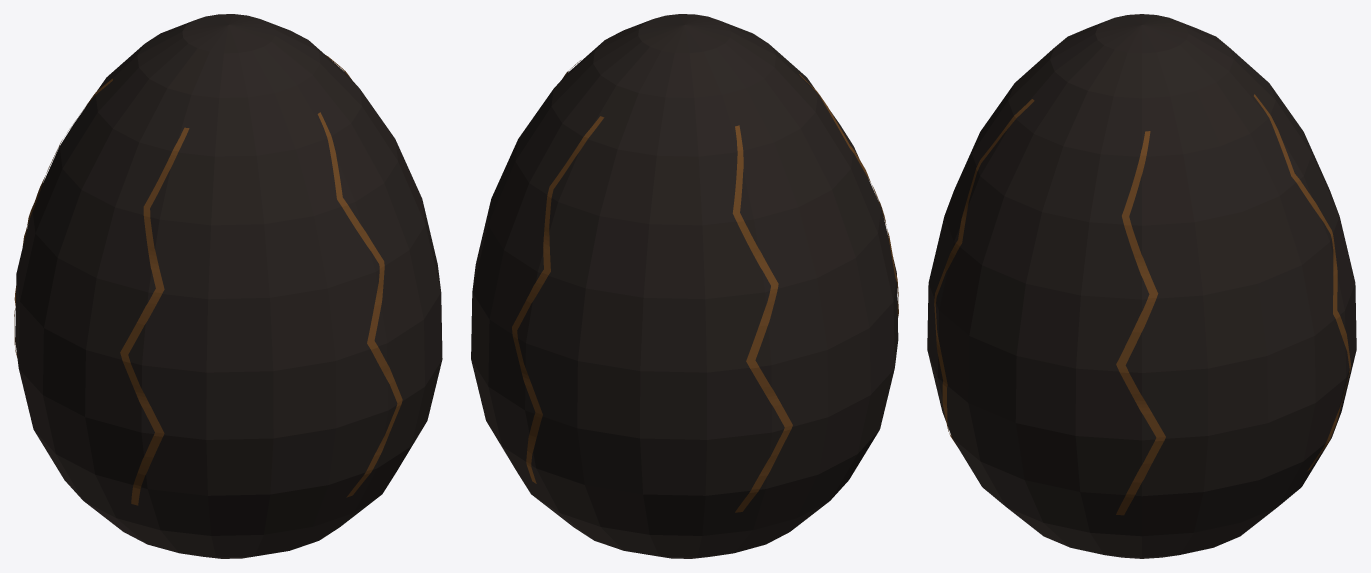
File: SM_Egg_Burnt_A.fbx
3 renders of one model, left to right at view 1: azimuth 30°, elevation 25°; view 2: azimuth 150°, elevation 25°; view 3: azimuth 270°, elevation 25°, orthographic.
Parts seen in each view (by area): view 1: SM_Egg_Burnt_A; view 2: SM_Egg_Burnt_A; view 3: SM_Egg_Burnt_A.
Boxes of the visible parts, x1=… form: SM_Egg_Burnt_A: x1=14, y1=14, x2=442, y2=558; SM_Egg_Burnt_A: x1=471, y1=14, x2=898, y2=558; SM_Egg_Burnt_A: x1=927, y1=14, x2=1356, y2=558.
Size of the model in its own units: 30.18 by 30.22 by 40.
